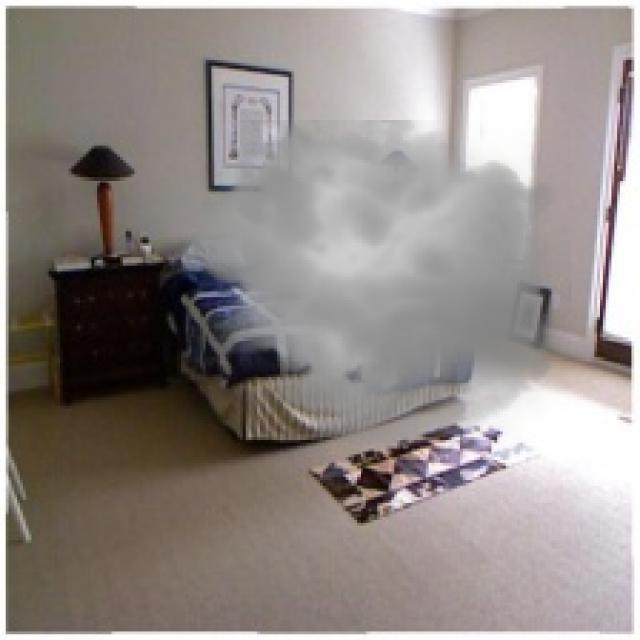Smoke: (177, 103, 572, 460)
